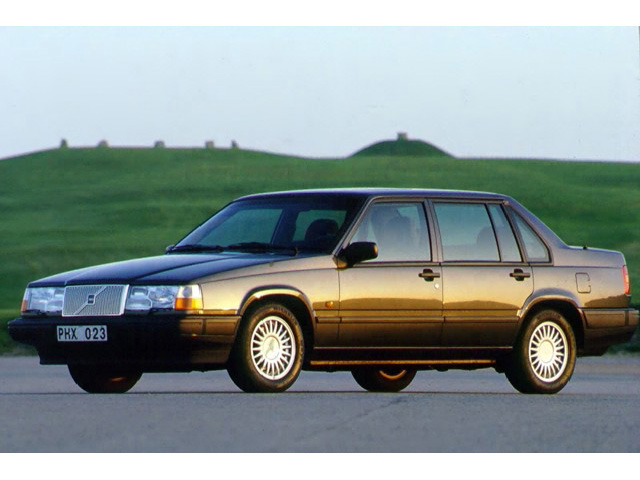sedan: (5, 183, 632, 392)
